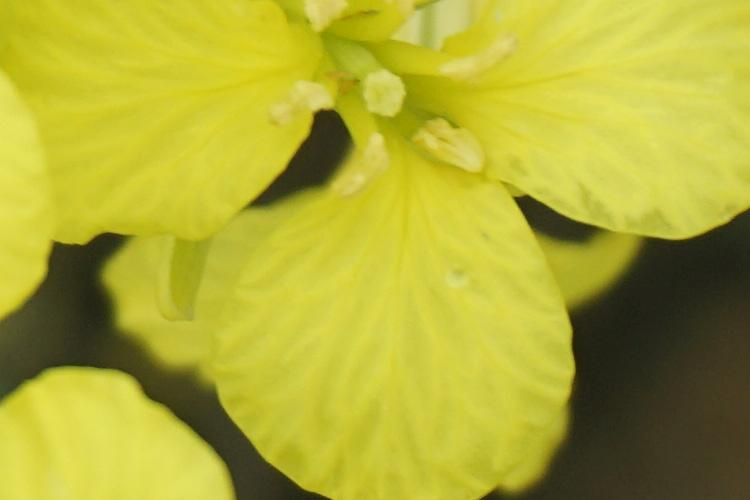yellow: (4, 2, 741, 479)
